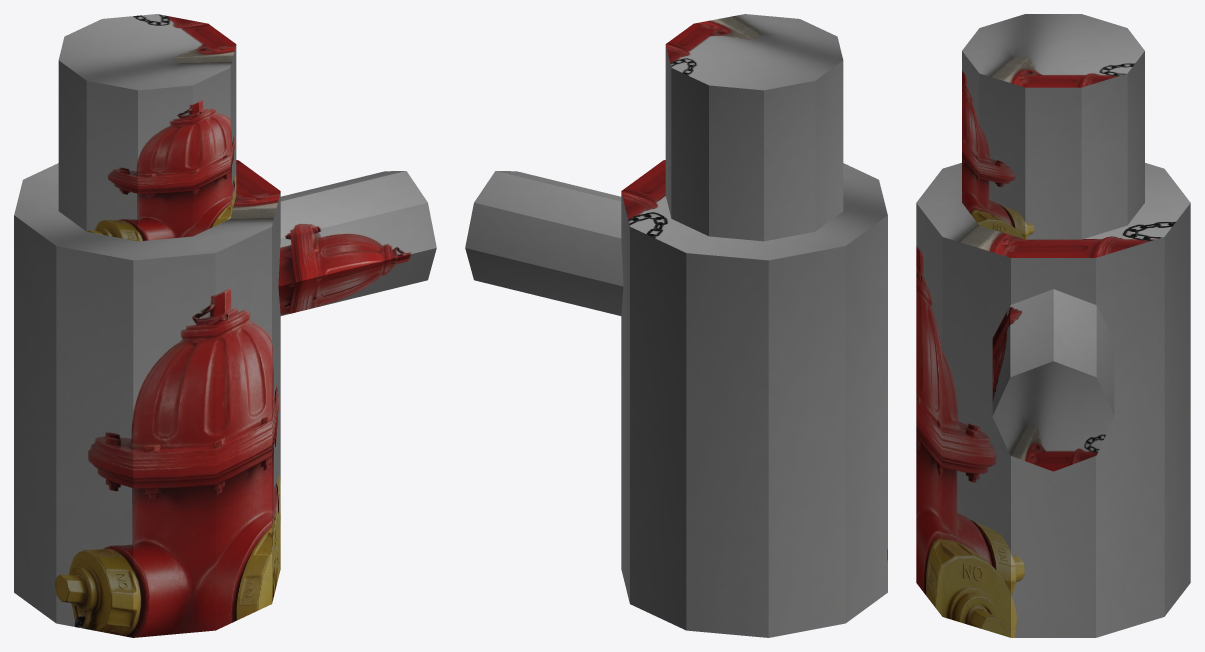
File: fire_hydrant.glb
3 views of the same model, side by side, from view 1: azimuth 30°, elevation 25°; view 2: azimuth 150°, elevation 25°; view 3: azimuth 270°, elevation 25° (orthographic).
Visible parts, largest first — view 1: Cylinder; view 2: Cylinder; view 3: Cylinder.
Boxes of the visible parts, x1=… form: Cylinder: x1=14, y1=14, x2=436, y2=637; Cylinder: x1=465, y1=14, x2=887, y2=637; Cylinder: x1=916, y1=14, x2=1190, y2=637.
Bounding box in the file's own units: 0.5662 × 0.77 × 0.36.
Materials: 1 (1 with a texture image).
